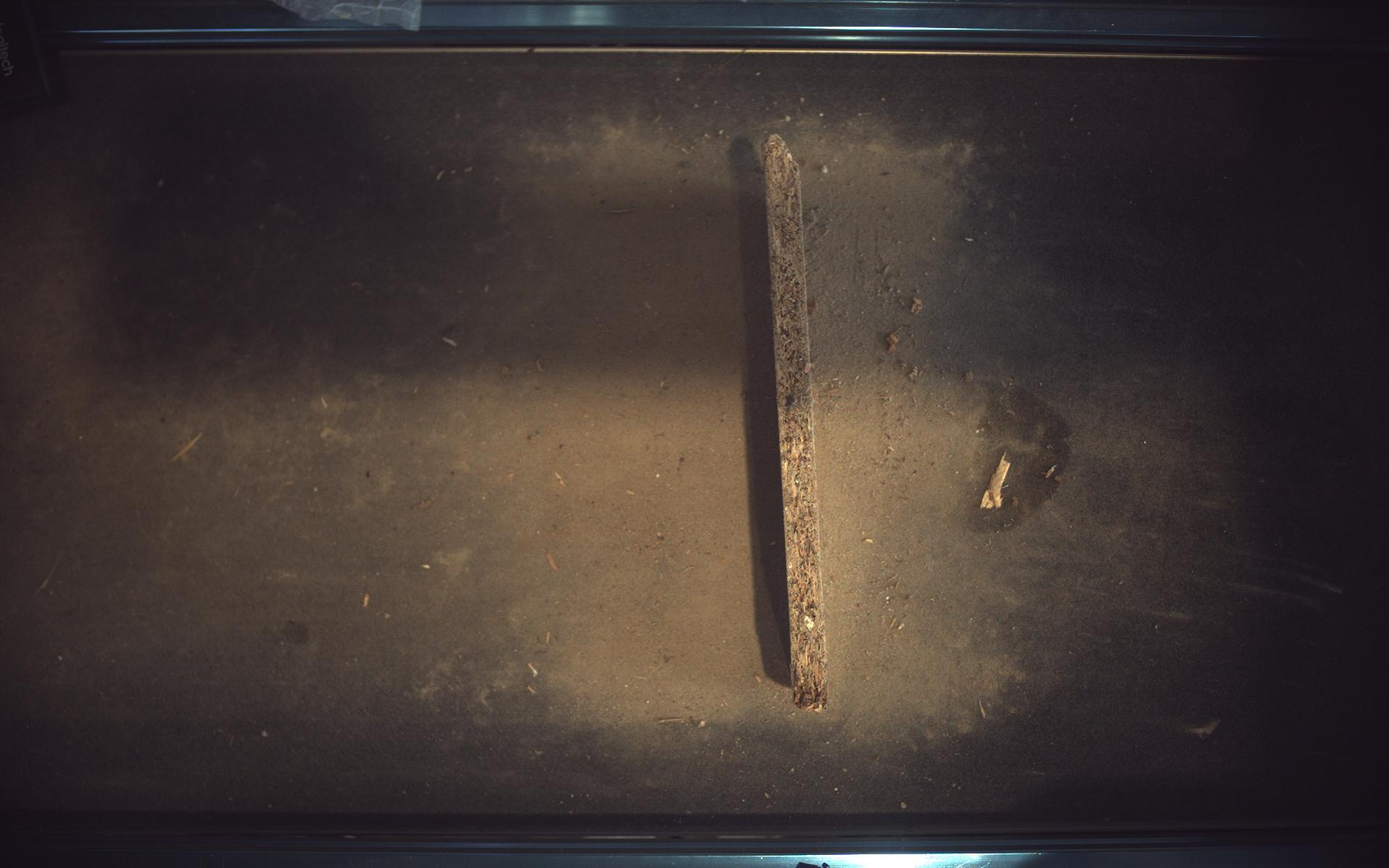wood: (764, 133, 829, 712)
